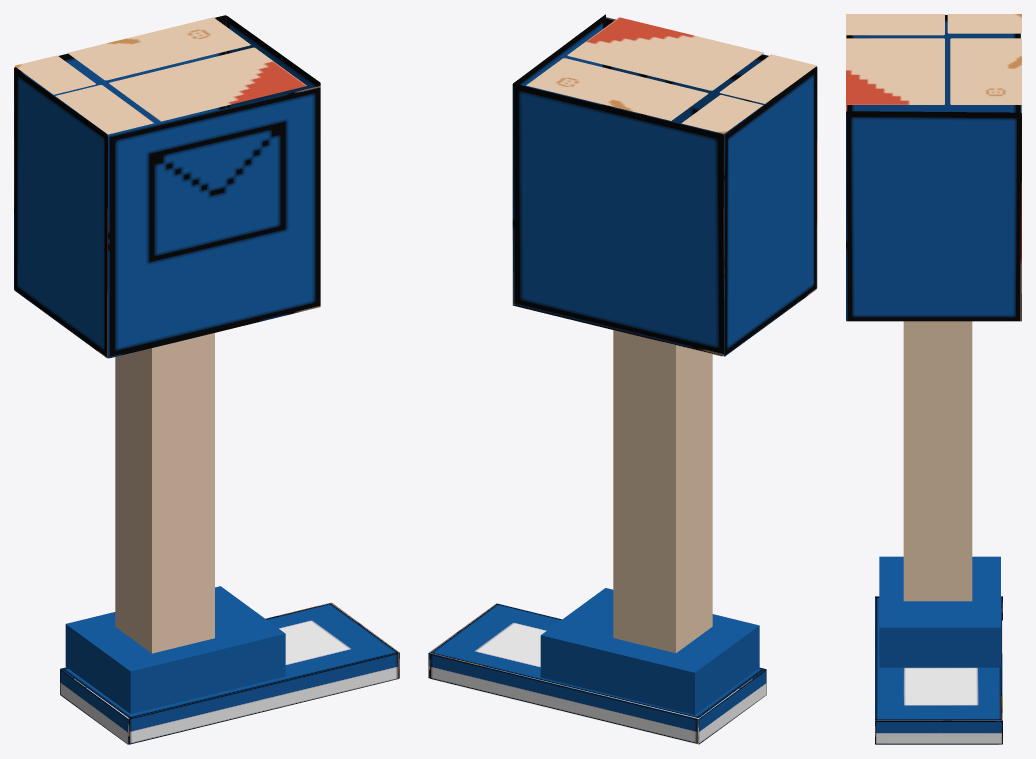
File: phineas_leftleg.obj
3 views of the same model, side by side, from view 1: azimuth 30°, elevation 25°; view 2: azimuth 150°, elevation 25°; view 3: azimuth 270°, elevation 25° (orthographic). The views are drawn at different scales.
Parts seen in each view (by area): view 1: Cube_006, Cube_002, Cube, Cube_001; view 2: Cube_006, Cube_002, Cube, Cube_001; view 3: Cube_006, Cube_002, Cube_001, Cube.
Part boxes in pixels (x1,y1,x2,y2): Cube_006: (14, 15, 320, 358); Cube_002: (115, 333, 214, 653); Cube: (60, 603, 399, 744); Cube_001: (65, 586, 285, 713); Cube_006: (512, 14, 817, 356); Cube_002: (613, 330, 712, 653); Cube: (428, 603, 766, 744); Cube_001: (540, 588, 759, 715); Cube_006: (846, 14, 1021, 321); Cube_002: (903, 321, 972, 601); Cube_001: (879, 556, 1000, 667); Cube: (875, 596, 1002, 744).
Bounding box in the file's own units: 2.72 × 5.34 × 1.44.
